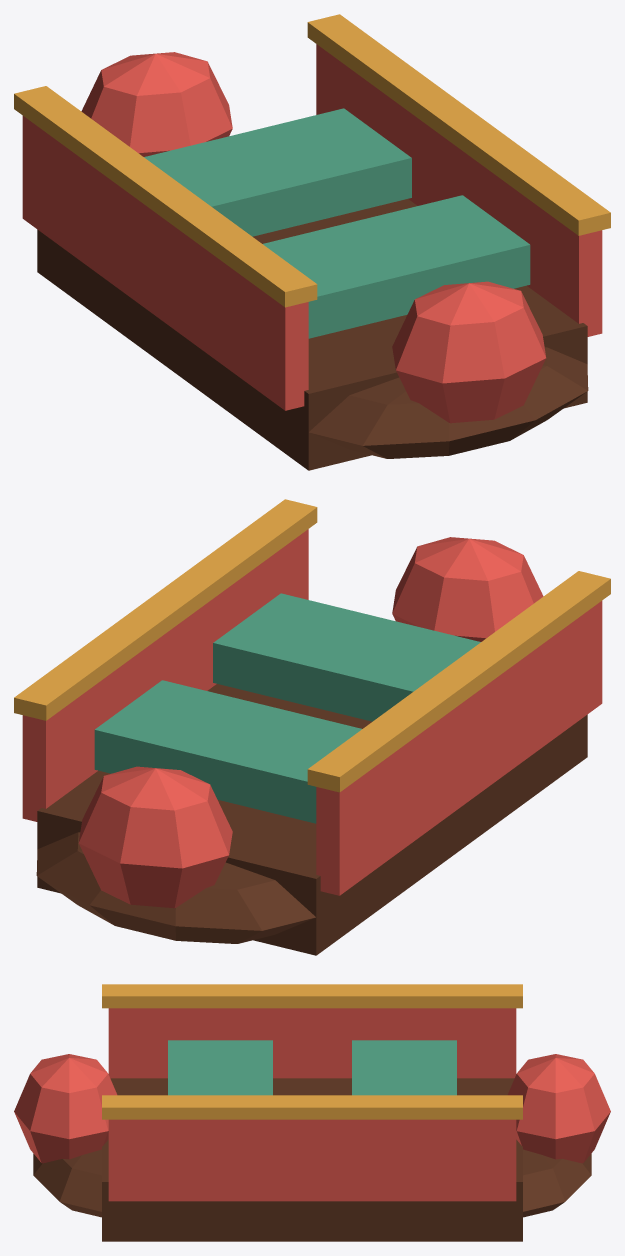
The model's file is ParkParkFlumeBoat.obj.
3 views of the same model, one above another, from view 1: azimuth 30°, elevation 25°; view 2: azimuth 150°, elevation 25°; view 3: azimuth 270°, elevation 25° (orthographic). The views are drawn at different scales.
Visible parts, largest first — view 1: ParkParkFlumeBoat; view 2: ParkParkFlumeBoat; view 3: ParkParkFlumeBoat.
Boxes of the visible parts, <box> form: ParkParkFlumeBoat: <box>14,14,610,470</box>; ParkParkFlumeBoat: <box>14,499,610,955</box>; ParkParkFlumeBoat: <box>14,984,610,1241</box>.
Size of the model in its own units: 2.22 by 1.2 by 4.54.
